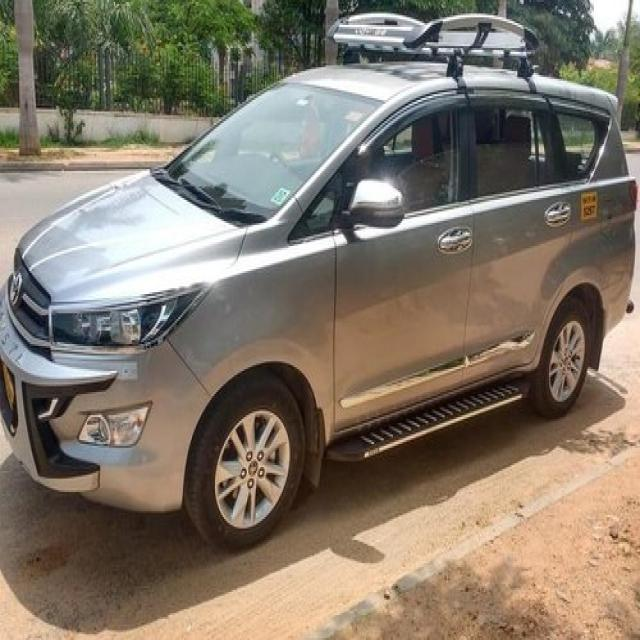light_vehicle: (1, 14, 638, 552)
